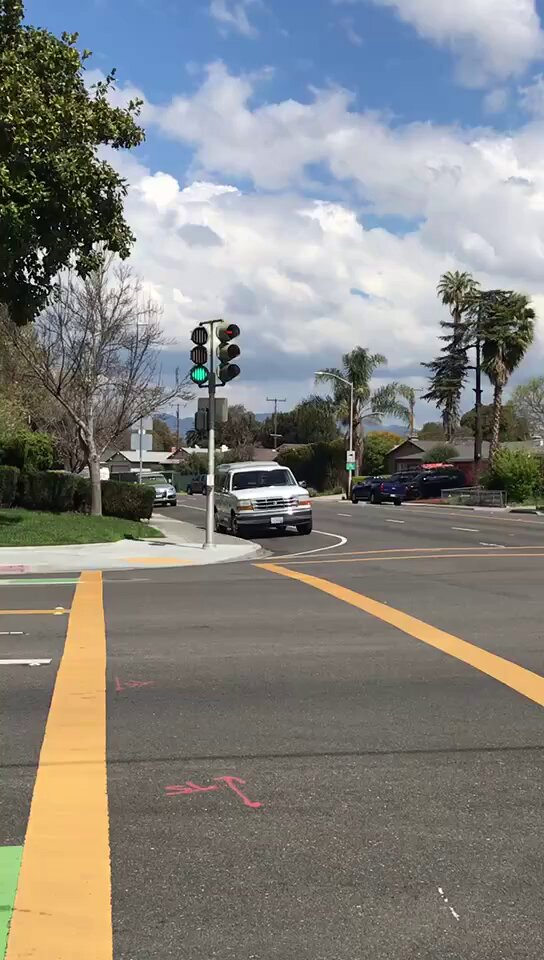green_light: (189, 326, 210, 386)
